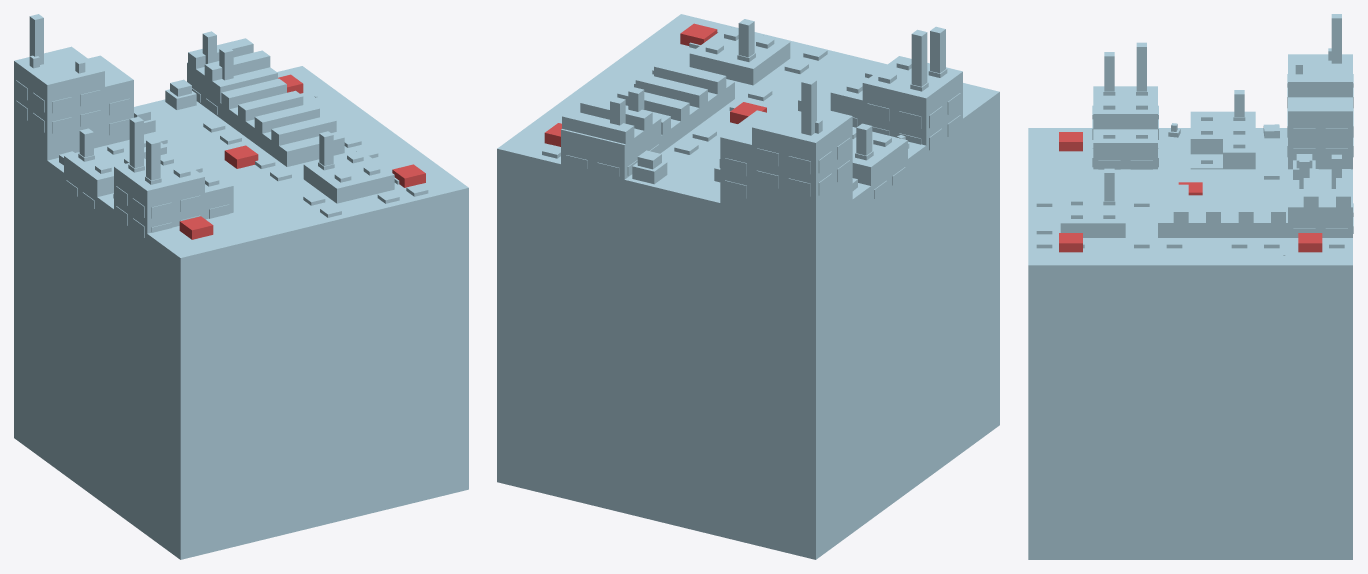
The model's file is block_9_sewersystem_100.glb.
The picture shows the model from 3 angles, left to right: view 1: azimuth 30°, elevation 25°; view 2: azimuth 150°, elevation 25°; view 3: azimuth 270°, elevation 25°; orthographic projection. The views are drawn at different scales.
Parts seen in each view (by area): view 1: Patch_LowerLeft_b09_SL, Factories_LowerLeft_b09_SL, SL_Net_09, Asset_Tree_Round.001_SL, Parking_LowerLeft_b09_SL, Ground_LowerLeft_b09_SL; view 2: Patch_LowerLeft_b09_SL, Factories_LowerLeft_b09_SL, SL_Net_09, Asset_Tree_Round.001_SL, Ground_LowerLeft_b09_SL; view 3: Patch_LowerLeft_b09_SL, Factories_LowerLeft_b09_SL, SL_Net_09.
Boxes of the visible parts, x1,y1,x2,y2 form: Patch_LowerLeft_b09_SL: (14,66,468,559); Factories_LowerLeft_b09_SL: (14,14,394,268); SL_Net_09: (179,74,425,239); Asset_Tree_Round.001_SL: (165,79,196,109); Parking_LowerLeft_b09_SL: (147,257,295,289); Ground_LowerLeft_b09_SL: (47,188,439,254); Patch_LowerLeft_b09_SL: (497,14,999,559); Factories_LowerLeft_b09_SL: (561,19,962,231); SL_Net_09: (544,23,766,146); Asset_Tree_Round.001_SL: (632,150,667,184); Ground_LowerLeft_b09_SL: (529,176,926,234); Patch_LowerLeft_b09_SL: (1028,128,1352,559); Factories_LowerLeft_b09_SL: (1060,14,1353,237); SL_Net_09: (1059,132,1322,252).
Size of the model in its own units: 9.52 by 13.33 by 9.52.
